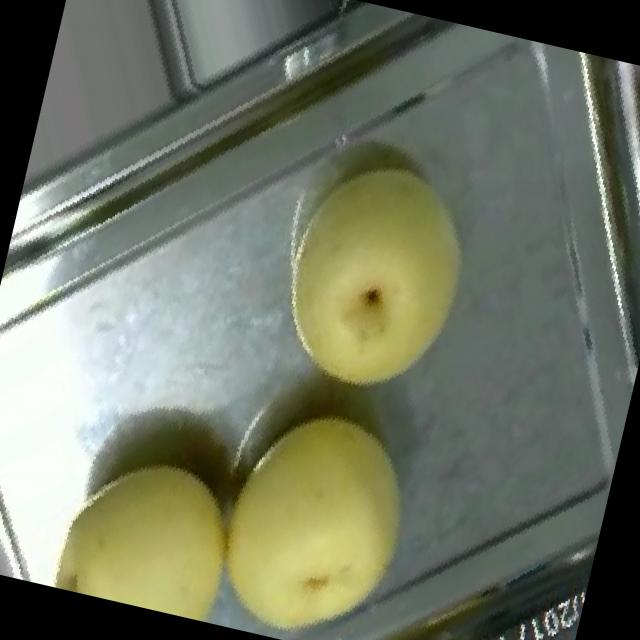Fruit: (229, 114, 522, 429), (178, 371, 460, 640), (8, 407, 287, 632)
